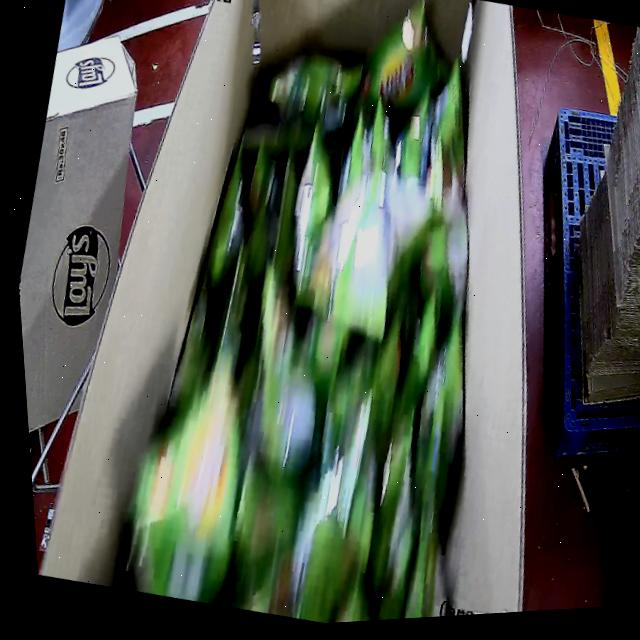YOGURT_HERB: (77, 0, 583, 635)
